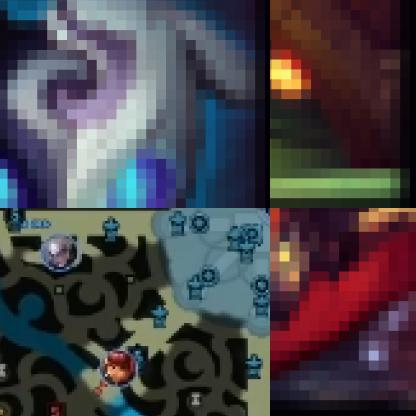Annie: (99, 349, 139, 387)
Diana: (40, 234, 80, 272)
Kindred: (0, 0, 269, 207)
Rammus: (270, 0, 415, 207)
Viktor: (270, 208, 415, 415)
